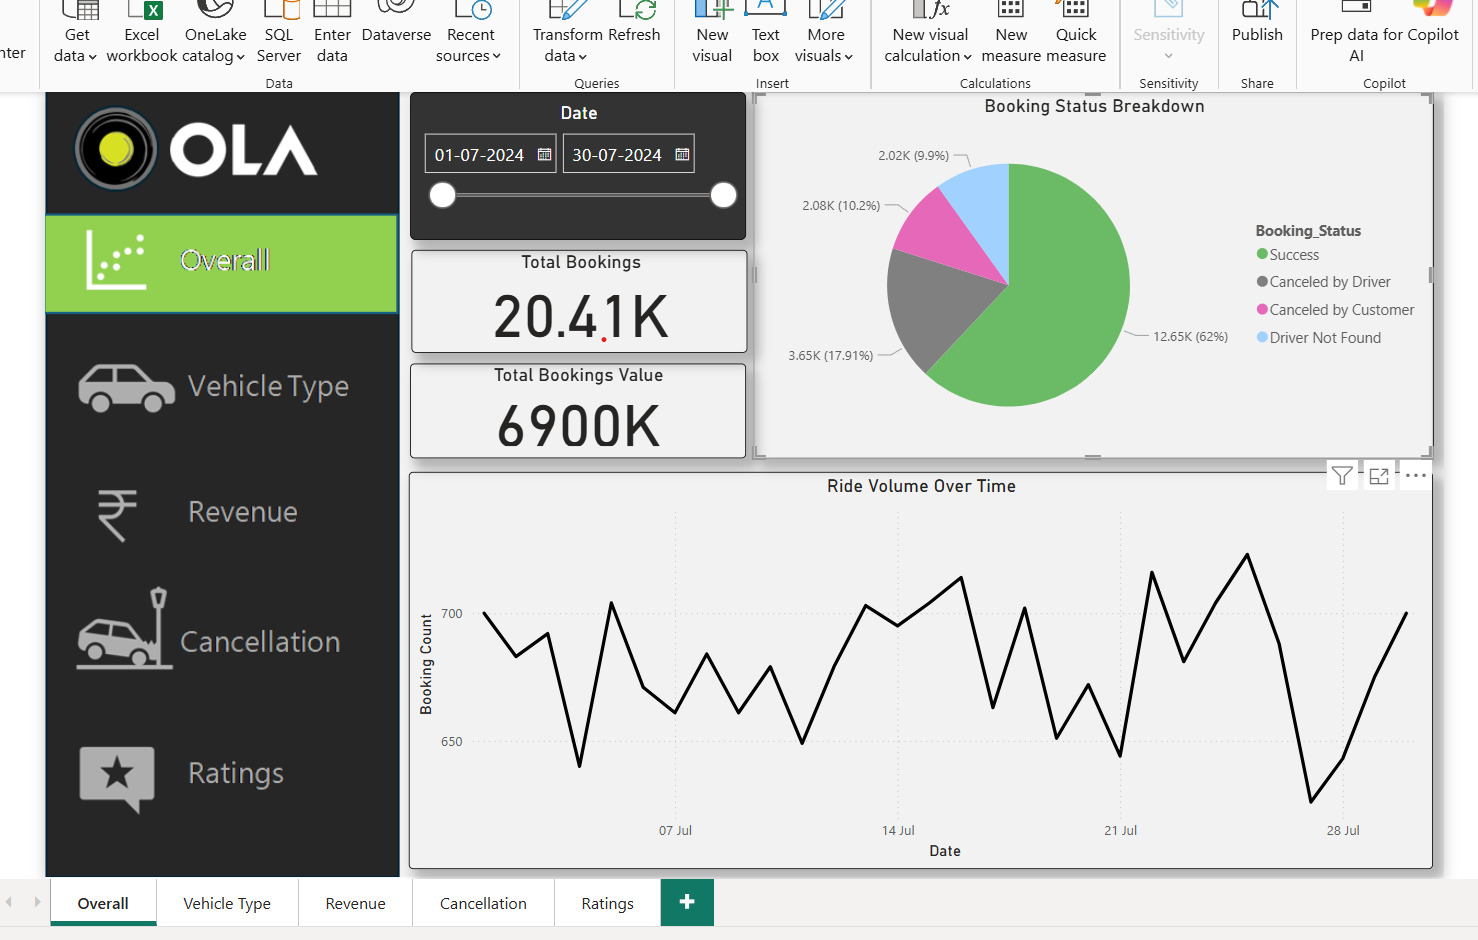

This screenshot's page, from the dashboard's own definition file:
{"tool":"powerbi","page":{"name":"Overall","canvas":[1280,720],"ordinal":0},"visuals":[{"type":"actionButton","box":[0,335.2,325.2,88.4],"z":0},{"type":"actionButton","box":[0,222.3,325.2,88.4],"z":1000},{"type":"actionButton","box":[0.9,447.3,325.2,88.4],"z":2000},{"type":"actionButton","box":[0,577.5,325.2,88.4],"z":3000},{"type":"lineChart","title":"Ride Volume Over Time","fields":{"Y":["CountNonNull(July.Booking_ID)"],"Category":["July. Date"]},"box":[333,348,937,363],"z":4000},{"type":"pieChart","title":"Booking Status Breakdown","fields":{"Category":["July.Booking_Status"],"Series":["July.Booking_Status"],"Y":["CountNonNull(July.Booking_Status)"]},"box":[648,0,622,335],"z":5000},{"type":"slicer","title":"Date","fields":{"Values":["July. Date"]},"box":[334,0,307,135],"z":6000},{"type":"card","title":"Total Bookings","fields":{"Values":["Count(July.Booking_ID)"]},"box":[335,144,307,94],"z":7000},{"type":"card","title":"Total Bookings Value","fields":{"Values":["Sum(July.Booking_Value)"]},"box":[334,248,307,87],"z":8000}]}

Visuals, with their boxes on the page's 1280x720 design canvas (x1, y1, x2, y2). These are canvas units, not pixel positions in the 1478x940 screenshot, which may show the page scaled, cropped or inside an application window:
actionButton: region(0, 335, 325, 424)
actionButton: region(0, 222, 325, 311)
actionButton: region(1, 447, 326, 536)
actionButton: region(0, 578, 325, 666)
"Ride Volume Over Time" lineChart: region(333, 348, 1270, 711)
"Booking Status Breakdown" pieChart: region(648, 0, 1270, 335)
"Date" slicer: region(334, 0, 641, 135)
"Total Bookings" card: region(335, 144, 642, 238)
"Total Bookings Value" card: region(334, 248, 641, 335)
